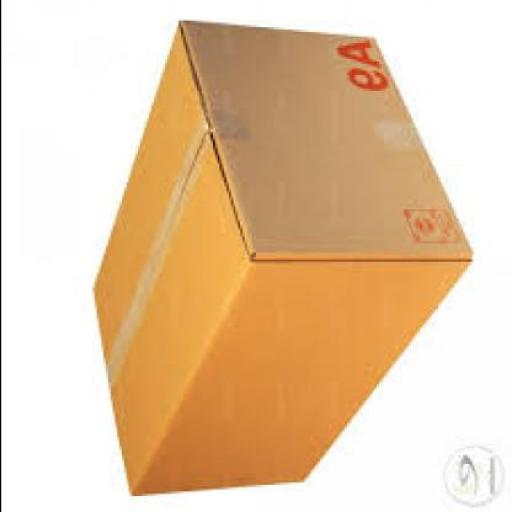cardboard: (91, 18, 469, 494)
